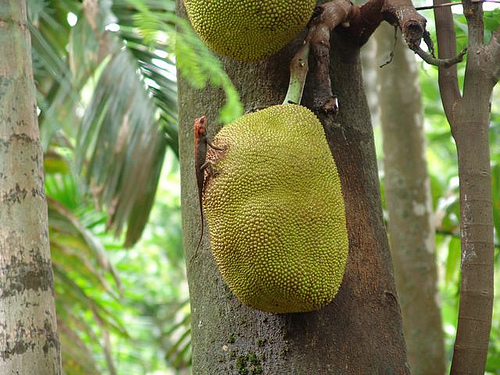jackfruit: (203, 103, 350, 316)
